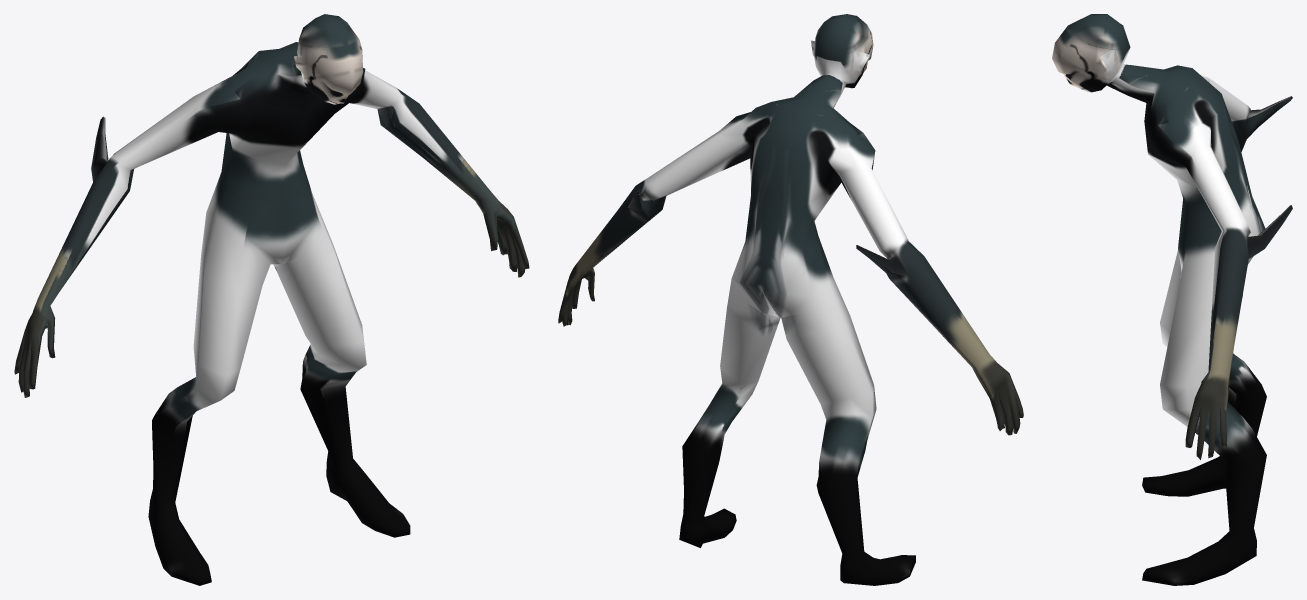
Rendered from monstruo1.glb.
The picture shows the model from 3 angles, left to right: view 1: azimuth 30°, elevation 25°; view 2: azimuth 150°, elevation 25°; view 3: azimuth 270°, elevation 25°; orthographic projection. The views are drawn at different scales.
Visible parts, largest first — view 1: Cube; view 2: Cube; view 3: Cube.
Boxes of the visible parts, x1,y1,x2,y2 form: Cube: [14, 14, 529, 585]; Cube: [558, 14, 1023, 585]; Cube: [1052, 14, 1292, 585].
Size of the model in its own units: 3.67 by 3.93 by 1.65.
1 material, 1 textured.
